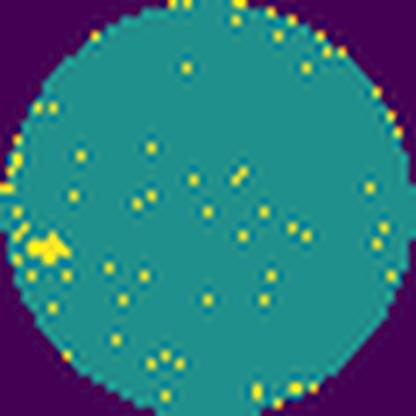Loc: (28, 232, 76, 261)
